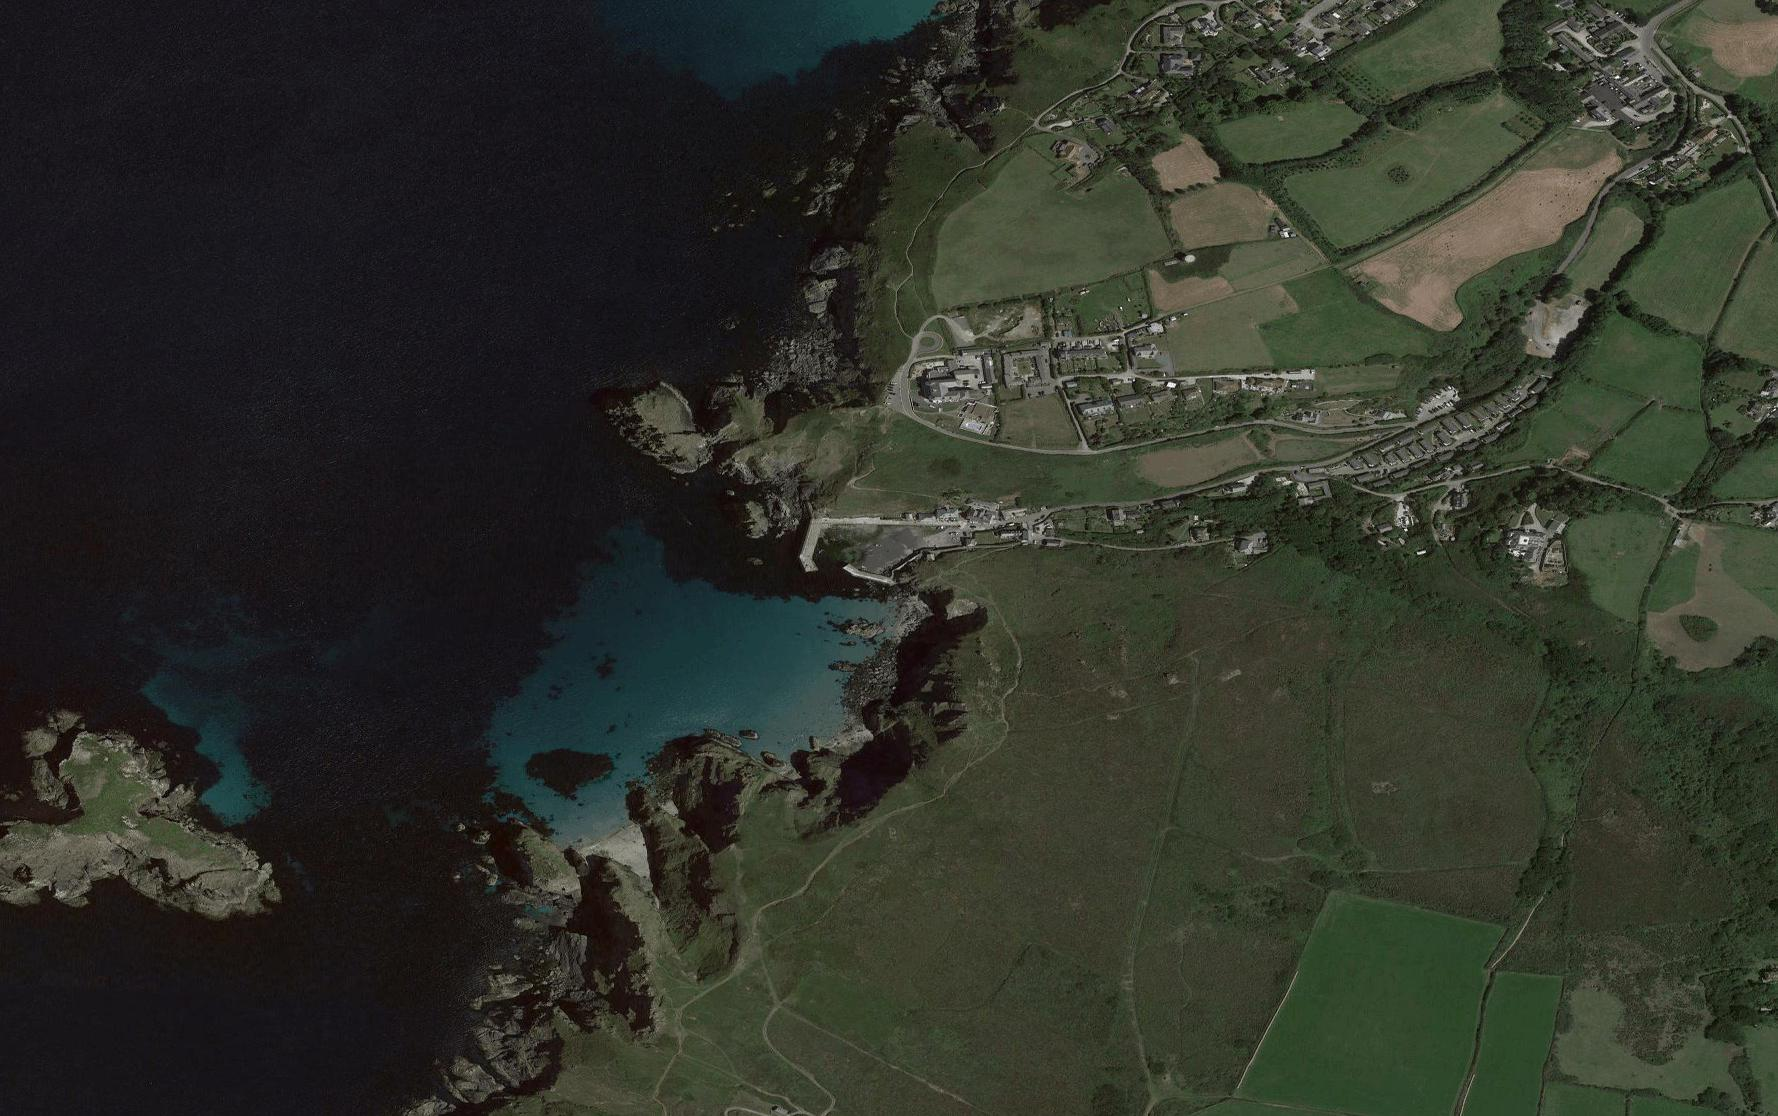harbor: (788, 516, 897, 612)
